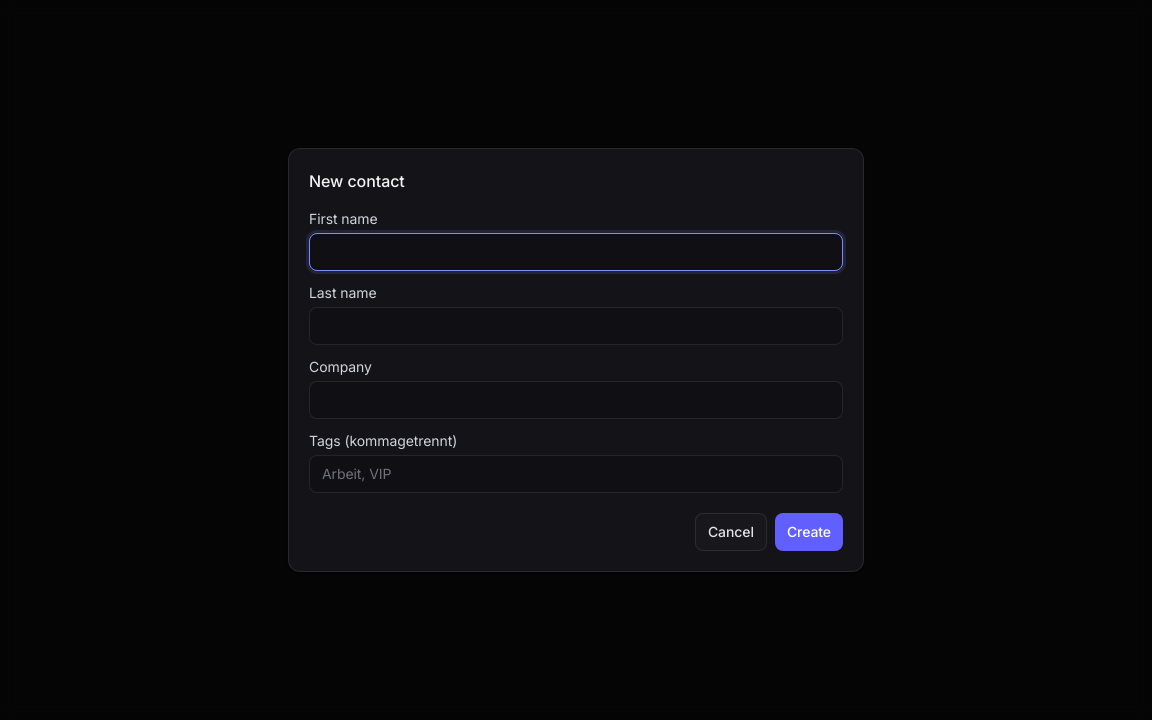
it: CreateContactDialog › first name is required
This screenshot has width=1152, height=720.
Click the button "Create".
click(809, 532)  # box [775,513,843,551]
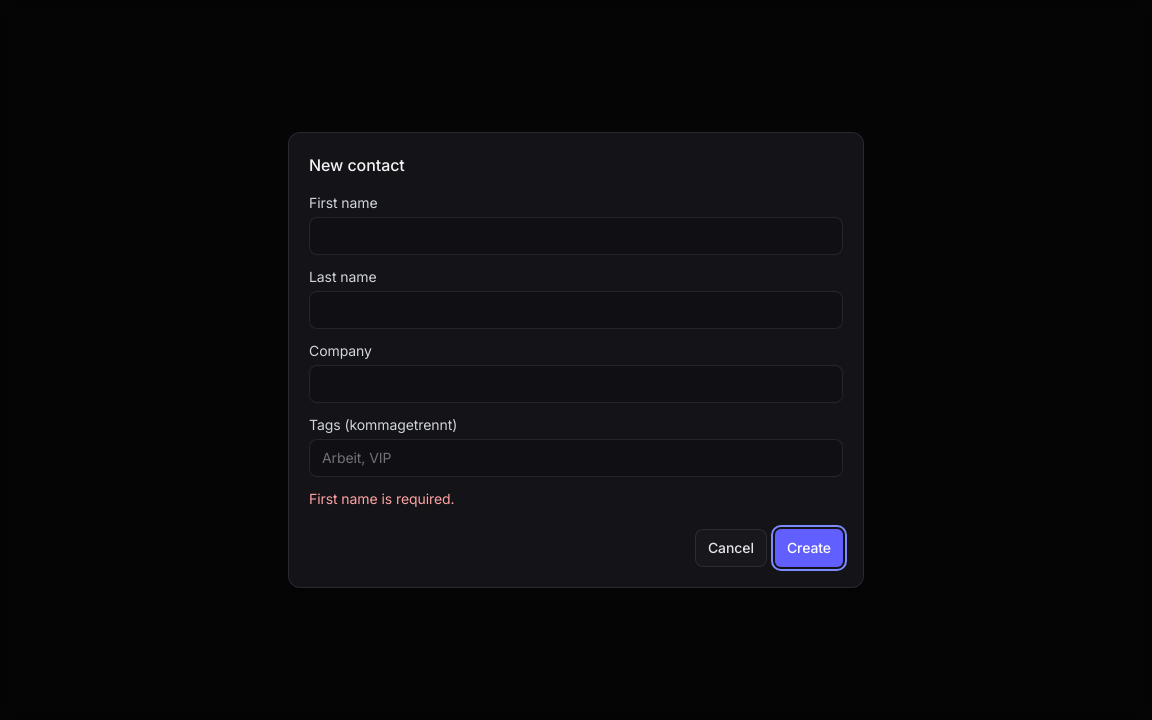
Check: the text "First name is required." is shown, box [309,490,454,507]
